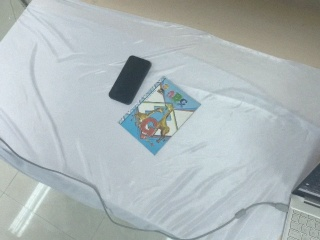book: (118, 76, 201, 156)
phone: (108, 55, 152, 106)
